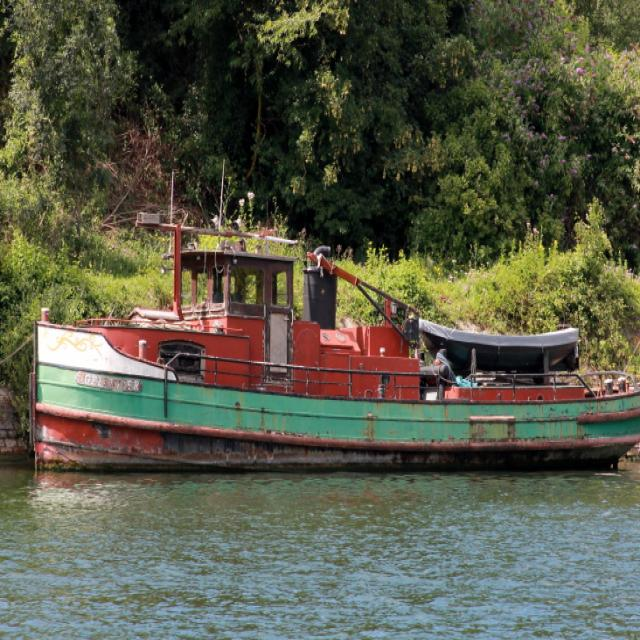tugboat: (27, 214, 640, 496)
